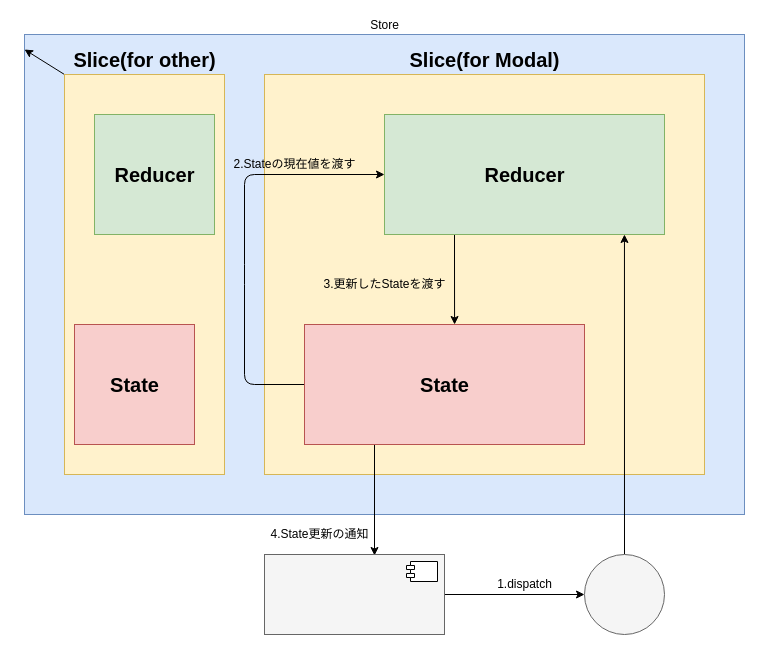
Some shapes in this 762 by 652 pixel diagram are drawn without their labels. The shapes that lost their labels are listed below. From the top down, each one's centre as x and y in pixels, then its label:
At point (354, 594): "«Modal» Component".
At point (624, 594): "Action".
